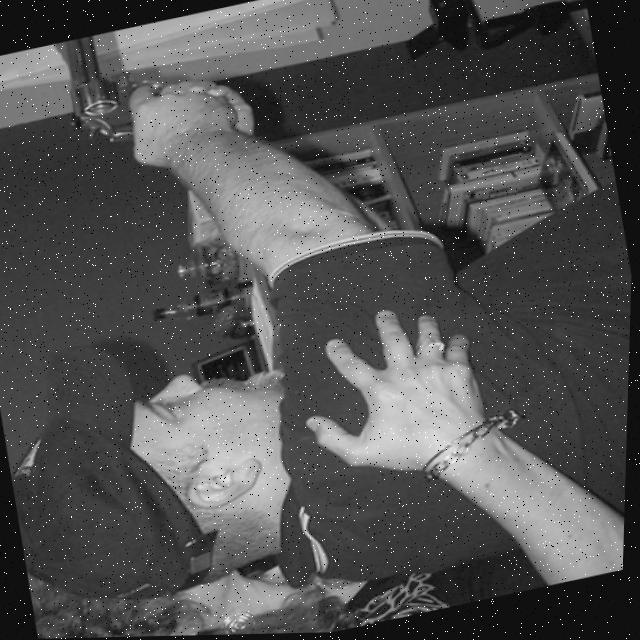pistol: (48, 23, 174, 155)
